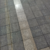others: (4, 1, 40, 50)
